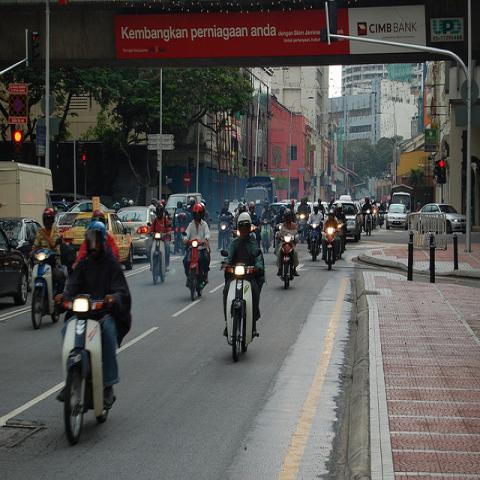car: (63, 211, 134, 270), (0, 217, 43, 291), (0, 227, 30, 306), (55, 200, 108, 241), (115, 206, 151, 258), (418, 203, 466, 235), (333, 199, 363, 242), (386, 204, 408, 227)
motorcycle: (56, 294, 109, 446), (222, 262, 264, 362), (29, 237, 62, 326), (183, 230, 207, 302), (146, 221, 172, 285), (276, 228, 302, 289), (322, 224, 341, 270), (305, 222, 324, 262), (258, 216, 275, 252), (216, 213, 232, 251), (297, 212, 309, 244), (271, 224, 283, 256), (362, 209, 374, 236), (338, 222, 344, 259), (376, 208, 386, 228)
truck: (0, 162, 53, 226), (240, 176, 277, 217), (389, 184, 414, 215)
